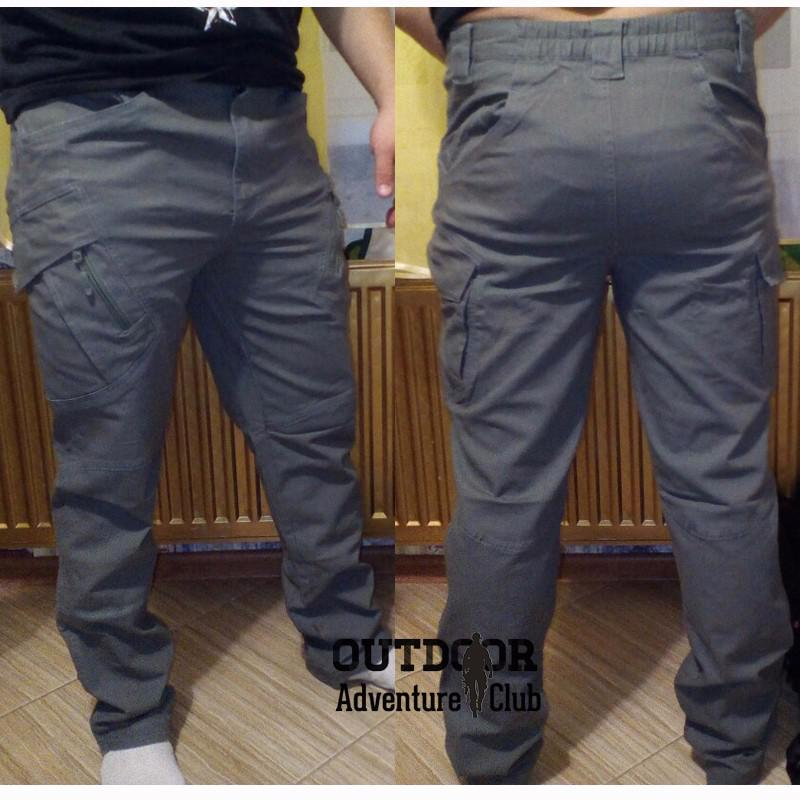pants: (429, 30, 798, 783), (18, 66, 382, 743)
